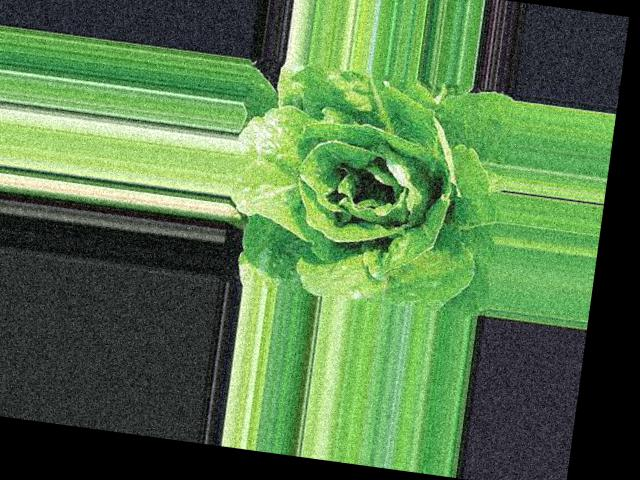lettuce: (298, 24, 476, 154)
